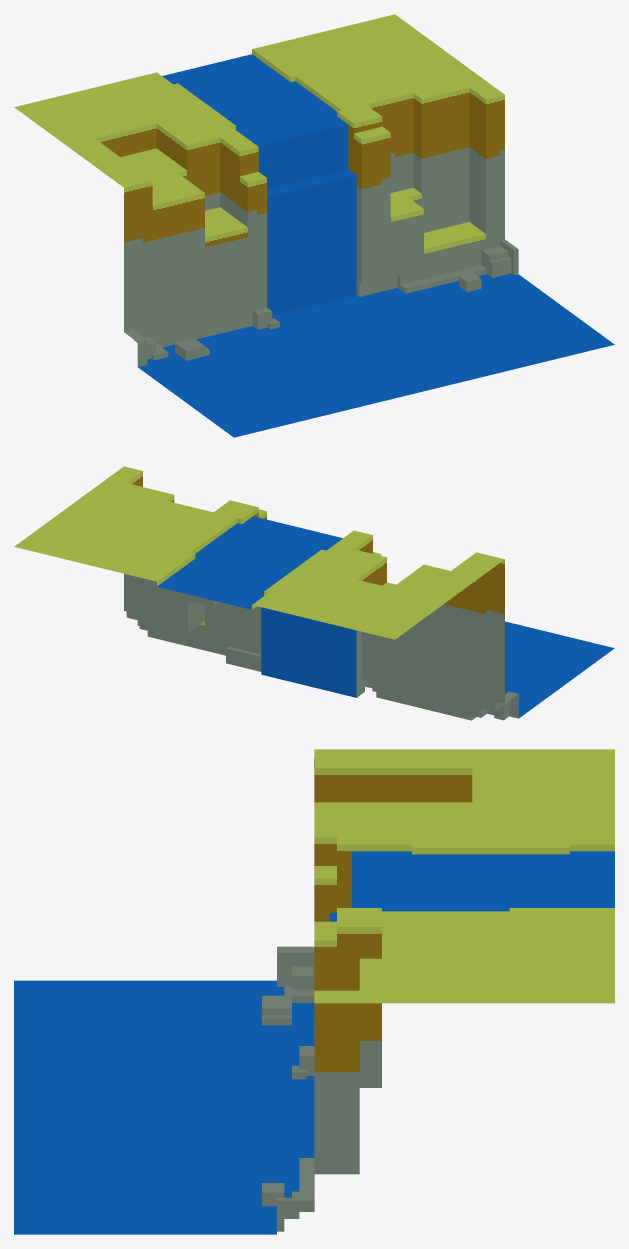
File: MMWWR92(1).glb
3 renders of one model, top to bottom at view 1: azimuth 30°, elevation 25°; view 2: azimuth 150°, elevation 25°; view 3: azimuth 270°, elevation 25°, orthographic. The views are drawn at different scales.
Visible parts, largest first — view 1: model_0.056; view 2: model_0.056; view 3: model_0.056.
Boxes of the visible parts, x1,y1,x2,y2 form: model_0.056: [14, 14, 614, 437]; model_0.056: [14, 466, 614, 720]; model_0.056: [14, 749, 614, 1234].
Size of the model in its own units: 80 by 34 by 80.
Materials: 1 (1 with a texture image).
